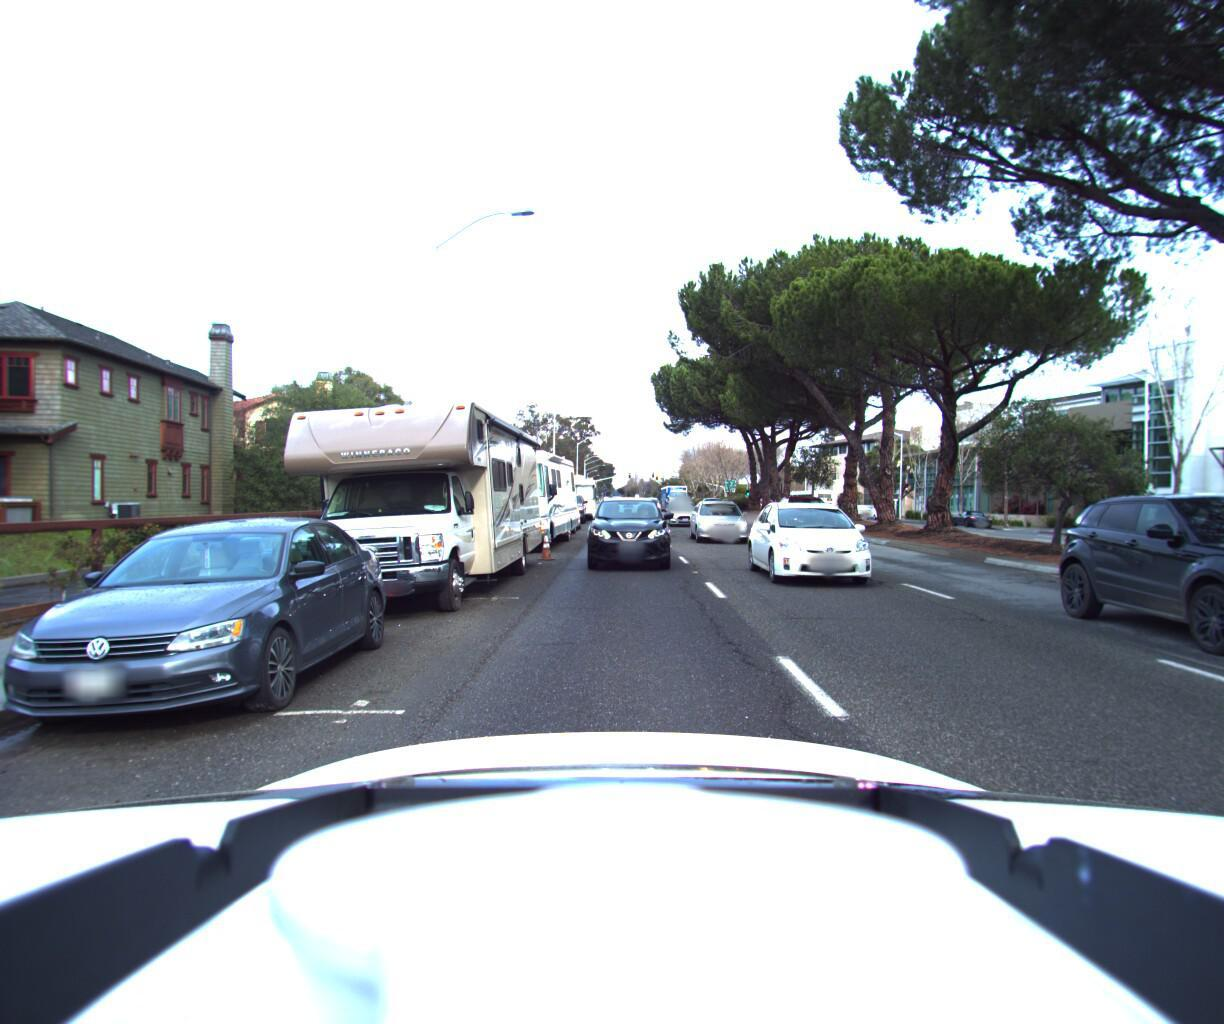car: (0, 508, 397, 751), (1096, 485, 1224, 713), (747, 494, 910, 599), (582, 494, 672, 574), (776, 499, 854, 546), (689, 499, 758, 550), (665, 499, 705, 530), (945, 513, 993, 532)
other_vehicle: (251, 383, 545, 621), (448, 434, 575, 556)
truck: (553, 475, 597, 523)
